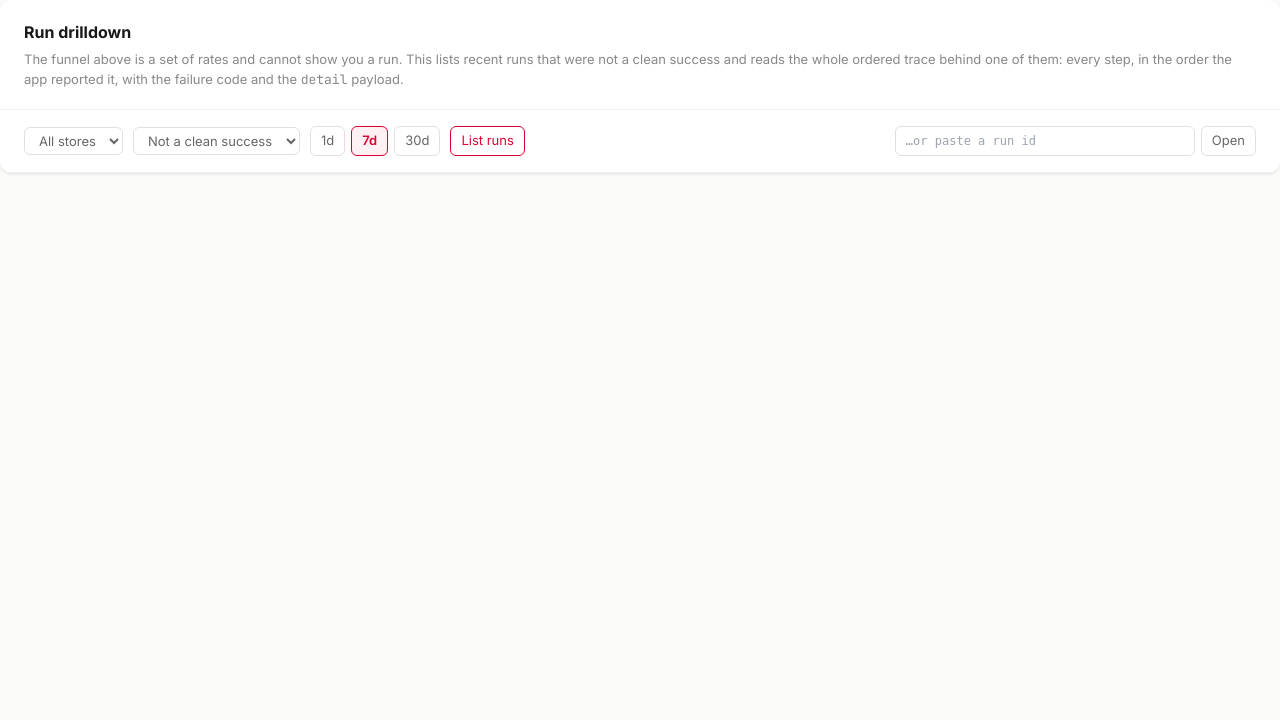
Scenario: AdminRunDrilldown › says nothing about a cap on a trace that fits under it
This screenshot has width=1280, height=720.
Click the button "List runs" at (488, 141), box [450,126,525,156]
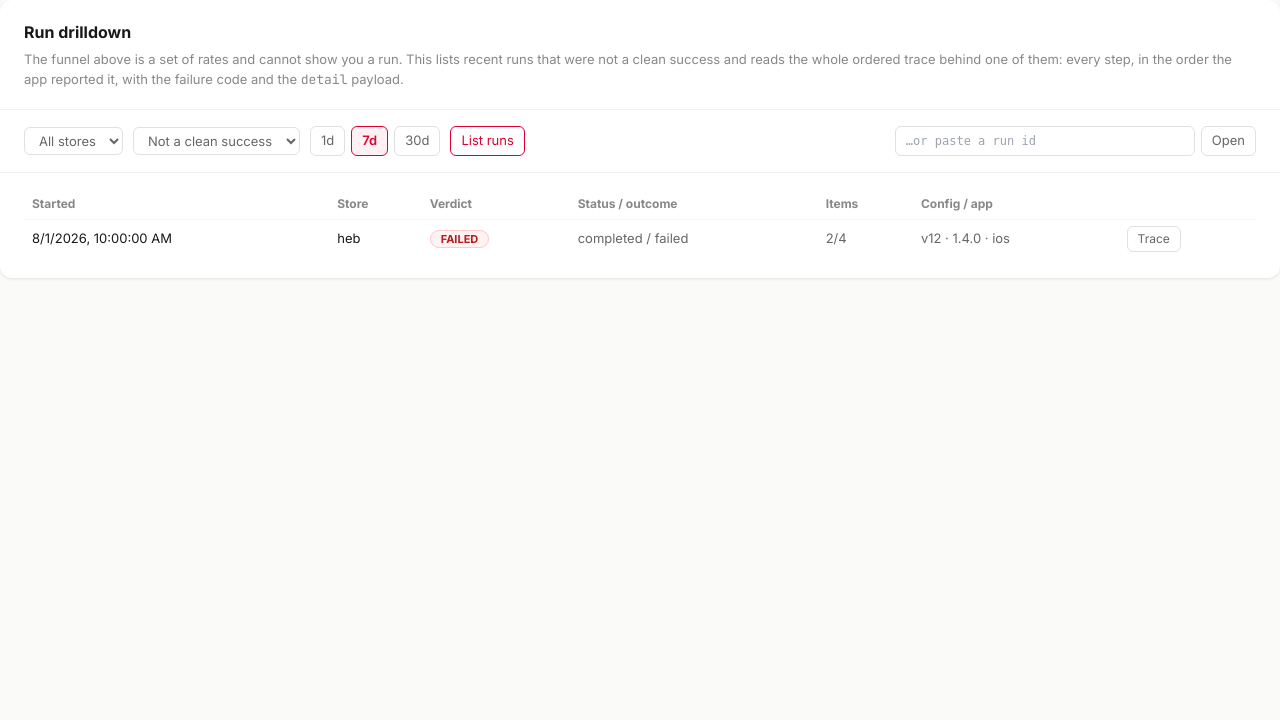
Expected: the button "Trace" is shown
Click the button "Trace" at (1154, 238), box [1127,226,1181,252]
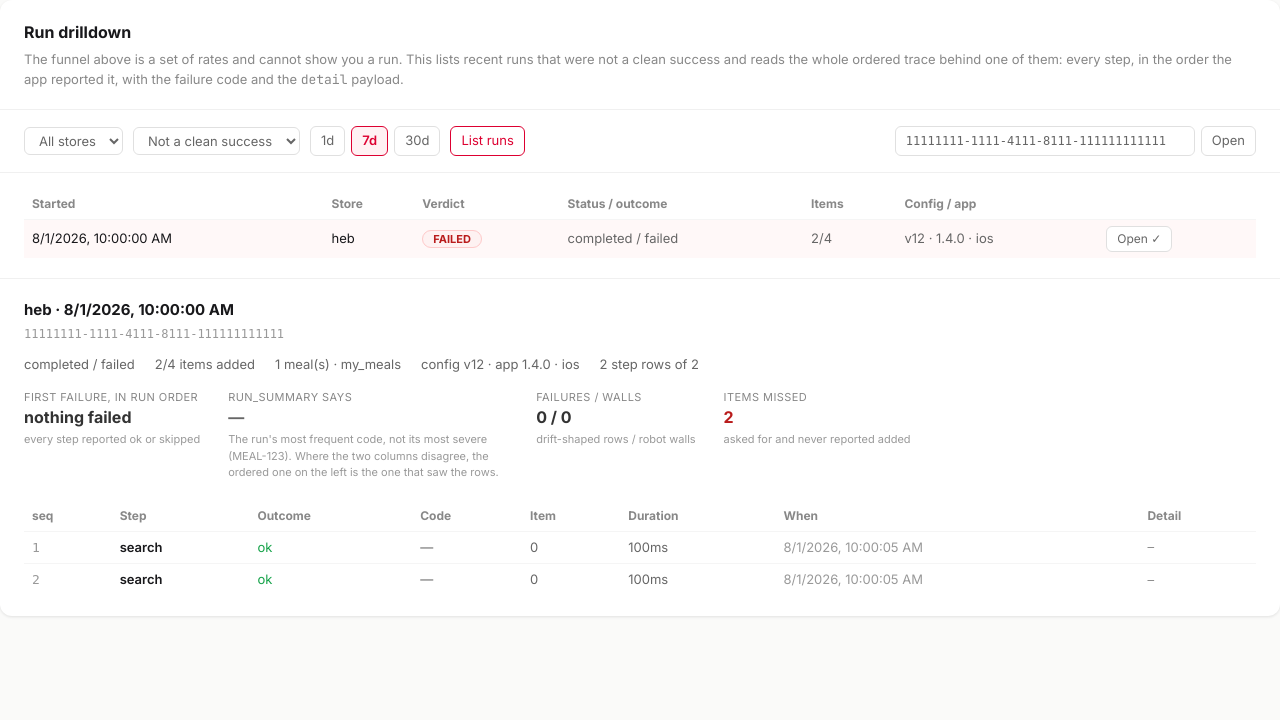
Expected: the text "First failure, in run order" is shown, [24,388,200,405]
